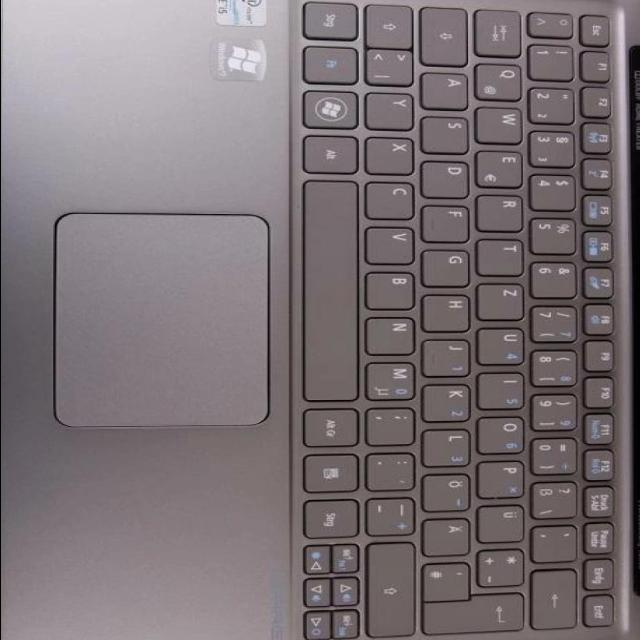0: (533, 436, 581, 475)
1: (530, 43, 578, 79)
2: (531, 85, 579, 123)
3: (531, 127, 580, 166)
4: (533, 172, 581, 208)
5: (533, 215, 580, 252)
6: (533, 259, 581, 296)
7: (533, 304, 581, 341)
8: (533, 347, 581, 385)
9: (533, 391, 581, 430)
a: (424, 70, 473, 108)
accent: (533, 523, 582, 560)
ae: (425, 515, 475, 554)
alt-left: (304, 133, 362, 173)
altgr-right: (304, 406, 362, 446)
b: (367, 268, 419, 308)
c: (367, 179, 419, 218)
caret: (530, 10, 576, 36)
comma: (368, 404, 420, 443)
d: (423, 158, 473, 196)
del: (533, 566, 582, 628)
e: (477, 148, 527, 186)
enter: (424, 591, 528, 634)
f: (423, 203, 473, 241)
g: (424, 247, 474, 284)
h: (425, 292, 475, 330)
hash: (425, 560, 475, 599)
i: (479, 370, 529, 408)
j: (424, 337, 474, 375)
k: (425, 382, 475, 420)
keyboard: (287, 0, 635, 640)
l: (425, 427, 475, 465)
less: (367, 46, 419, 84)
m: (367, 359, 419, 399)
minus: (368, 494, 420, 534)
n: (368, 314, 420, 352)
o: (478, 414, 528, 453)
oe: (424, 472, 474, 511)
p: (479, 458, 529, 498)
plus: (479, 546, 529, 585)
point: (369, 450, 419, 490)
q: (477, 61, 526, 99)
r: (478, 192, 528, 230)
s: (423, 114, 473, 152)
shift-left: (367, 1, 417, 47)
shift-lock: (421, 4, 473, 65)
shift-right: (367, 540, 420, 636)
space: (303, 179, 363, 400)
ss: (534, 478, 582, 517)
strg-left: (304, 0, 362, 38)
strg-right: (303, 496, 363, 537)
t: (479, 236, 528, 274)
tab: (476, 6, 526, 55)
u: (478, 325, 528, 363)
ue: (479, 502, 529, 541)
v: (368, 224, 420, 263)
w: (478, 105, 528, 141)
x: (367, 135, 419, 173)
y: (368, 90, 418, 128)
z: (479, 281, 529, 318)
